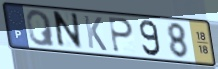8: (166, 21, 191, 60)
9: (139, 19, 162, 58)
K: (82, 14, 109, 53)
N: (53, 10, 84, 51)
P: (107, 16, 135, 55)
Q: (25, 9, 58, 48)
